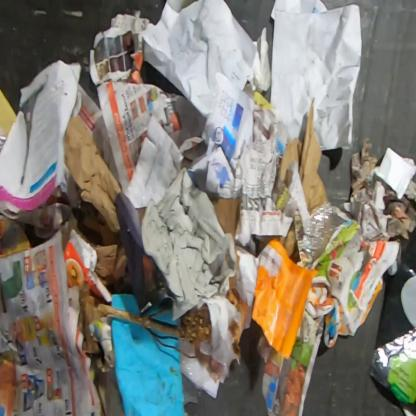cardboard: (64, 113, 130, 294), (278, 97, 329, 213), (64, 227, 114, 305), (224, 275, 252, 360), (210, 196, 242, 239)
soft_plastic: (368, 224, 416, 408), (281, 158, 355, 268), (175, 322, 243, 406)
